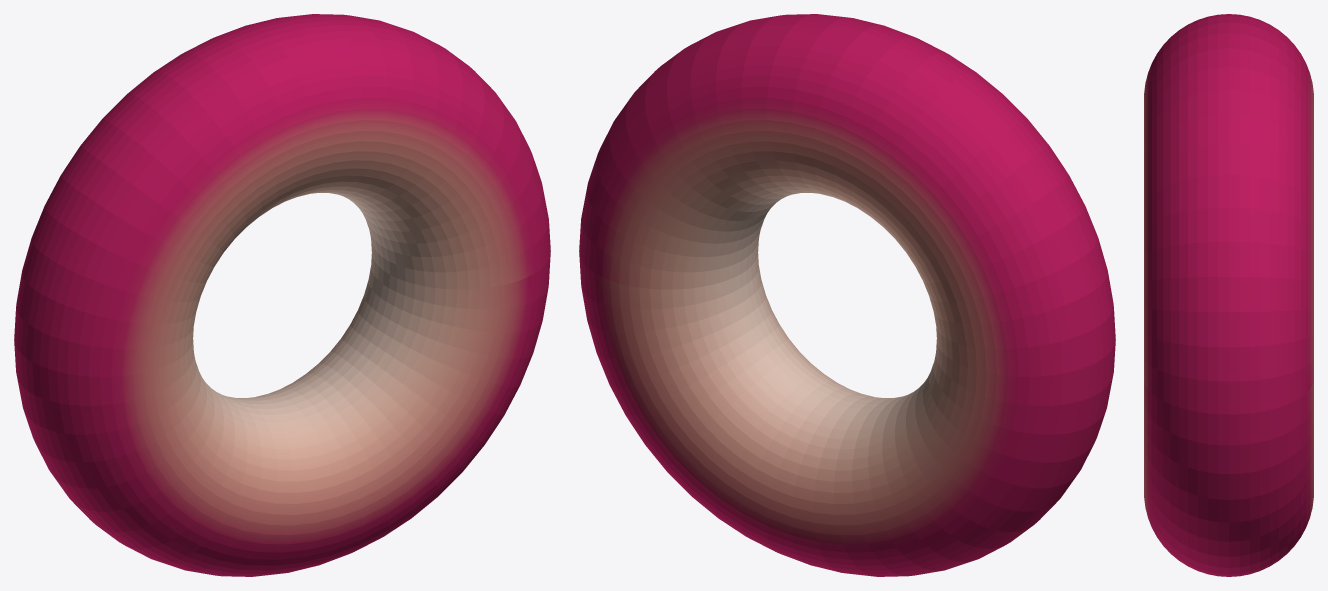
The picture shows the model from 3 angles, left to right: view 1: azimuth 30°, elevation 25°; view 2: azimuth 150°, elevation 25°; view 3: azimuth 270°, elevation 25°; orthographic projection. The views are drawn at different scales.
Parts seen in each view (by area): view 1: world; view 2: world; view 3: world.
Boxes of the visible parts, x1,y1,x2,y2 form: world: (14, 14, 550, 576); world: (579, 14, 1115, 576); world: (1144, 14, 1313, 576).
Size of the model in its own units: 28.67 by 28.61 by 8.65.
